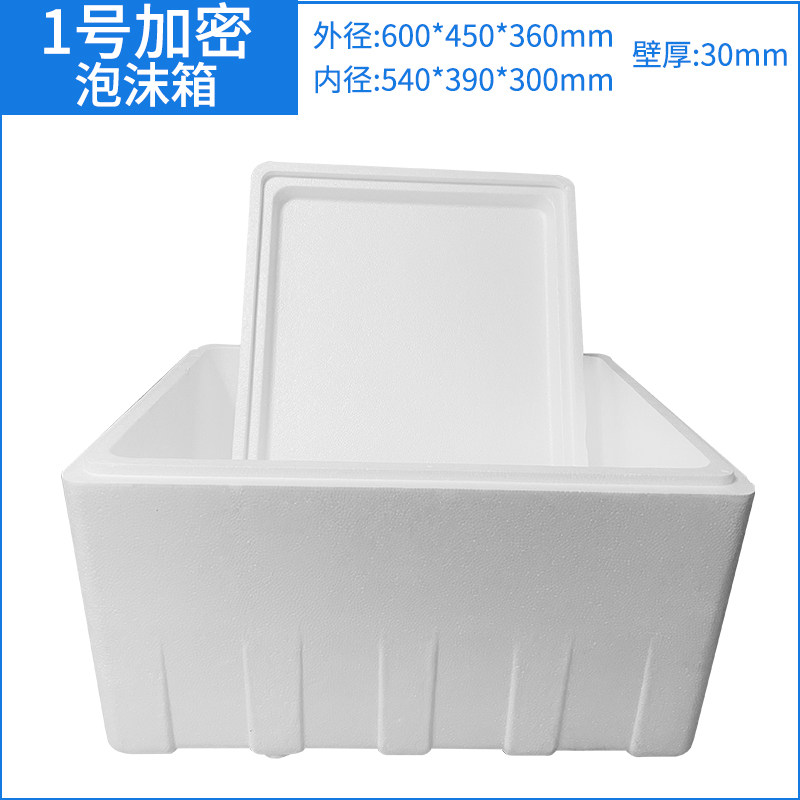泡沫箱: (61, 166, 753, 758)
